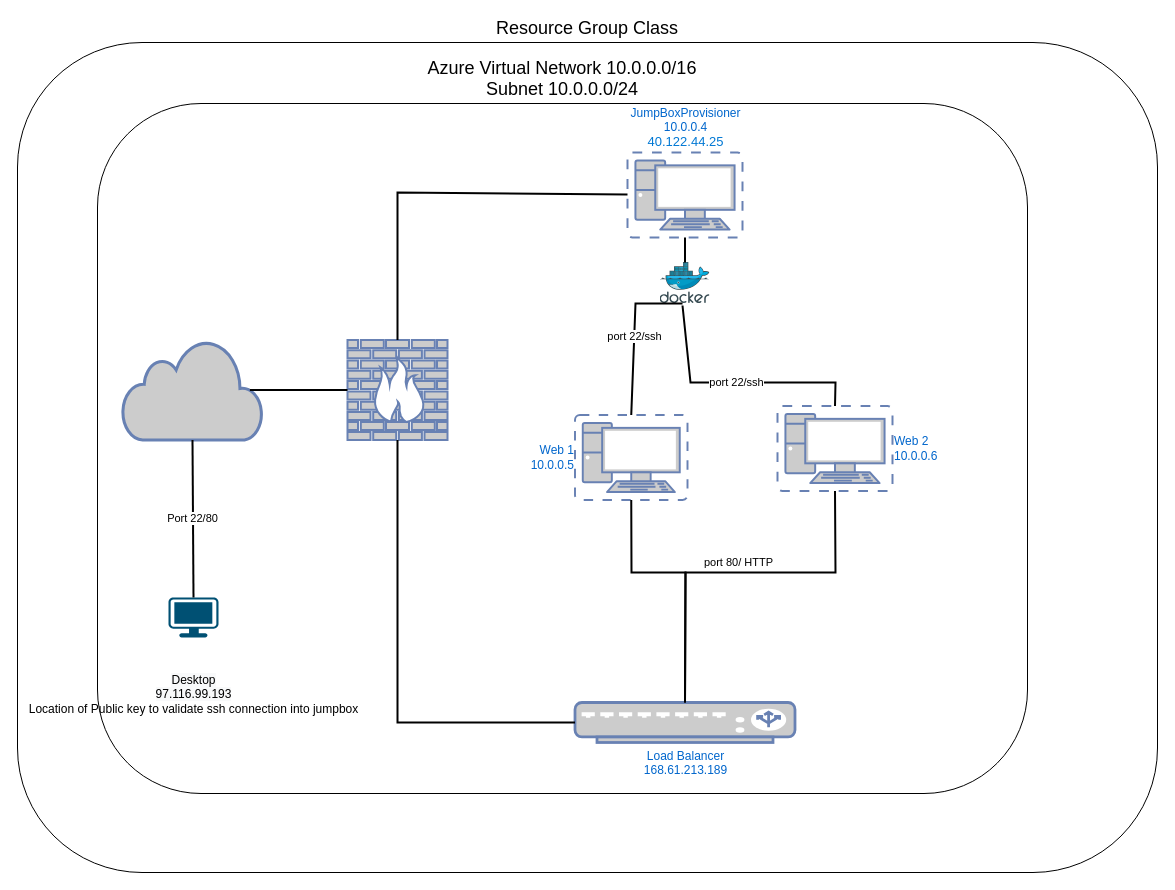
This 1175x890 diagram has some shape labels left out. Each missing label, with the centre of its shape:
"Internet" belongs at (x=192, y=389).
"Jolly-shaw location of public key to connect to Web VMs" belongs at (x=685, y=282).
"Network Security Group" belongs at (x=397, y=389).
